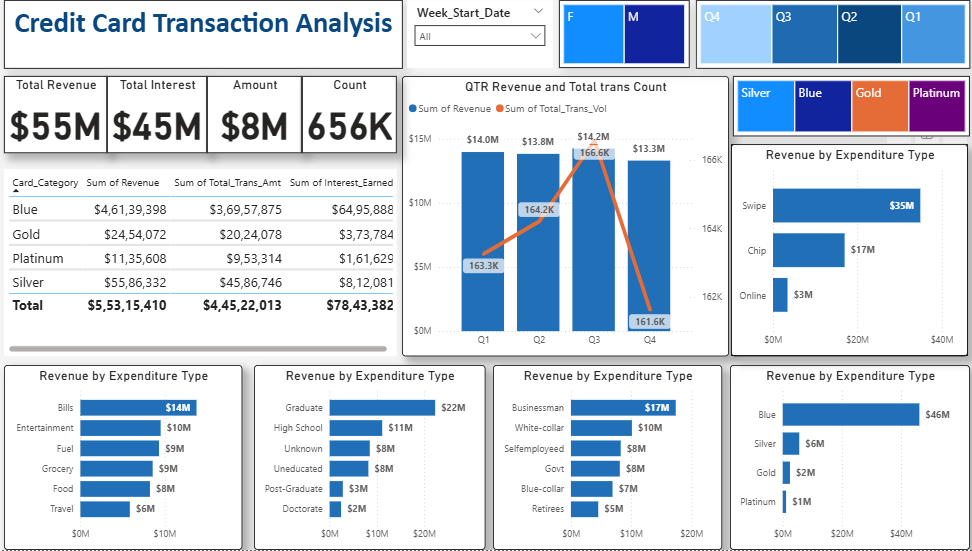

The page's visual inventory and layout, read from the dashboard file:
{"tool":"powerbi","page":{"name":"Page 2","canvas":[1280,720],"ordinal":1},"visuals":[{"type":"textbox","box":[10.3,0,521.6,89.6],"z":0},{"type":"lineStackedColumnComboChart","title":"QTR Revenue and Total trans Count","fields":{"Category":["credit_card.Qtr"],"Y":["Sum(credit_card.Revenue)"],"Y2":["Sum(credit_card.Total_Trans_Vol)"]},"box":[531.9,99.9,427.6,367.3],"z":1000},{"type":"barChart","title":"Revenue by Expenditure Type","fields":{"Y":["Sum(credit_card.Revenue)"],"Category":["credit_card.Exp Type"]},"box":[10.3,477.6,311.5,242.4],"z":2000},{"type":"barChart","title":"Revenue by Expenditure Type","fields":{"Y":["Sum(credit_card.Revenue)"],"Category":["customer.Education_Level"]},"box":[338,477.6,302.7,242.4],"z":3000},{"type":"barChart","title":"Revenue by Expenditure Type","fields":{"Y":["Sum(credit_card.Revenue)"],"Category":["customer.Customer_Job"]},"box":[650.9,477.6,299.8,242.4],"z":4000},{"type":"barChart","title":"Revenue by Expenditure Type","fields":{"Y":["Sum(credit_card.Revenue)"],"Category":["credit_card.Card_Category"]},"box":[960.9,477.8,314.2,242.2],"z":5000},{"type":"barChart","title":"Revenue by Expenditure Type","fields":{"Y":["Sum(credit_card.Revenue)"],"Category":["credit_card.Use Chip"]},"box":[962.2,188.5,310.3,277.5],"z":6000},{"type":"tableEx","fields":{"Values":["credit_card.Card_Category","Sum(credit_card.Revenue)","Sum(credit_card.Total_Trans_Amt)","Sum(credit_card.Interest_Earned)"]},"box":[10.3,221.9,514.3,245.4],"z":7000},{"type":"card","title":"Total Revenue","fields":{"Values":["Sum(credit_card.Revenue)"]},"box":[10.5,99.5,134.8,100.8],"z":8000},{"type":"card","title":"Total Interest","fields":{"Values":["Sum(credit_card.Total_Trans_Amt)"]},"box":[145.3,99.5,130.9,100.8],"z":9000},{"type":"card","title":"Amount","fields":{"Values":["Sum(credit_card.Interest_Earned)"]},"box":[276.2,99.5,124.4,100.8],"z":10000},{"type":"card","title":"Count","fields":{"Values":["Sum(credit_card.Total_Trans_Vol)"]},"box":[400.6,99.5,124.4,100.8],"z":11000},{"type":"slicer","fields":{"Values":["credit_card.Week_Start_Date"]},"box":[538.2,0,191.3,89.5],"z":12000},{"type":"treemap","fields":{"Group":["credit_card.Qtr"],"Values":["Avg(credit_card.Client_Num)"]},"box":[916.9,0,358.5,89.6],"z":13000},{"type":"treemap","fields":{"Values":["Avg(credit_card.Client_Num)"],"Group":["customer.Gender"]},"box":[737,0,170.7,89.5],"z":14000},{"type":"treemap","fields":{"Values":["Avg(credit_card.Client_Num)"],"Group":["credit_card.Card_Category"]},"box":[965.4,99.9,310,79.3],"z":15000}]}

Visuals, with their boxes in screenshot pixels (x1, y1, x2, y2), scaled from the page's 1280x720 canvas onto the 972x551 screenshot:
textbox: {"x1": 8, "y1": 0, "x2": 404, "y2": 69}
"QTR Revenue and Total trans Count" lineStackedColumnComboChart: {"x1": 404, "y1": 76, "x2": 729, "y2": 358}
"Revenue by Expenditure Type" barChart: {"x1": 8, "y1": 365, "x2": 244, "y2": 550}
"Revenue by Expenditure Type" barChart: {"x1": 257, "y1": 365, "x2": 487, "y2": 550}
"Revenue by Expenditure Type" barChart: {"x1": 494, "y1": 365, "x2": 722, "y2": 550}
"Revenue by Expenditure Type" barChart: {"x1": 730, "y1": 366, "x2": 968, "y2": 550}
"Revenue by Expenditure Type" barChart: {"x1": 731, "y1": 144, "x2": 966, "y2": 357}
tableEx - credit_card.Card_Category x Sum(credit_card.Revenue): {"x1": 8, "y1": 170, "x2": 398, "y2": 358}
"Total Revenue" card: {"x1": 8, "y1": 76, "x2": 110, "y2": 153}
"Total Interest" card: {"x1": 110, "y1": 76, "x2": 210, "y2": 153}
"Amount" card: {"x1": 210, "y1": 76, "x2": 304, "y2": 153}
"Count" card: {"x1": 304, "y1": 76, "x2": 399, "y2": 153}
slicer - credit_card.Week_Start_Date: {"x1": 409, "y1": 0, "x2": 554, "y2": 68}
treemap - credit_card.Qtr x Avg(credit_card.Client_Num): {"x1": 696, "y1": 0, "x2": 969, "y2": 69}
treemap - Avg(credit_card.Client_Num) x customer.Gender: {"x1": 560, "y1": 0, "x2": 689, "y2": 68}
treemap - Avg(credit_card.Client_Num) x credit_card.Card_Category: {"x1": 733, "y1": 76, "x2": 969, "y2": 137}
